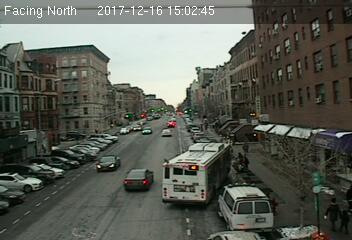bus: (163, 142, 231, 204)
car: (122, 167, 154, 189), (97, 155, 122, 172)
pedestrian: (325, 194, 341, 235), (243, 153, 251, 173)
police: (219, 183, 277, 234)
